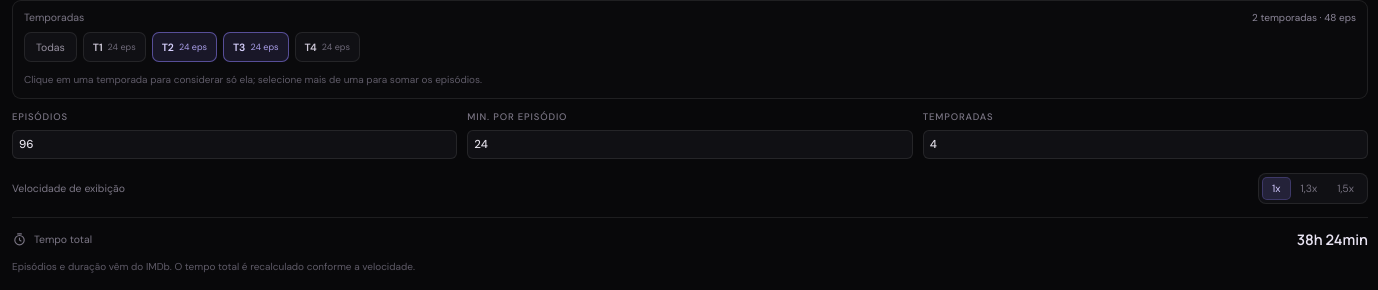
Test: TimeFields (séries) › volta para todas as temporadas
expect the text "2 temporadas · 48 eps" is shown: met, box [1252,11,1356,24]
Click the button "Todas" at (50, 47), box [24,32,77,62]
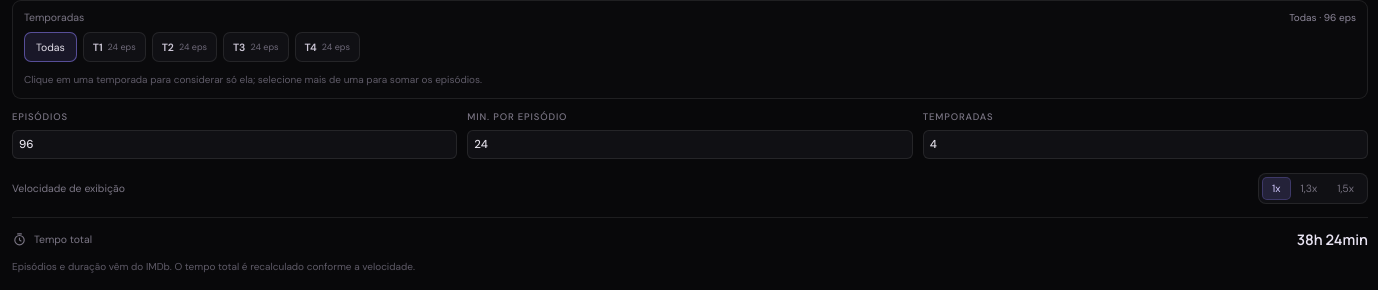
expect the field named "Quantidade de episódios" holds "96": met, box [12,130,457,158]
expect the text "Todas · 96 eps" is shown: met, box [1289,11,1356,24]
